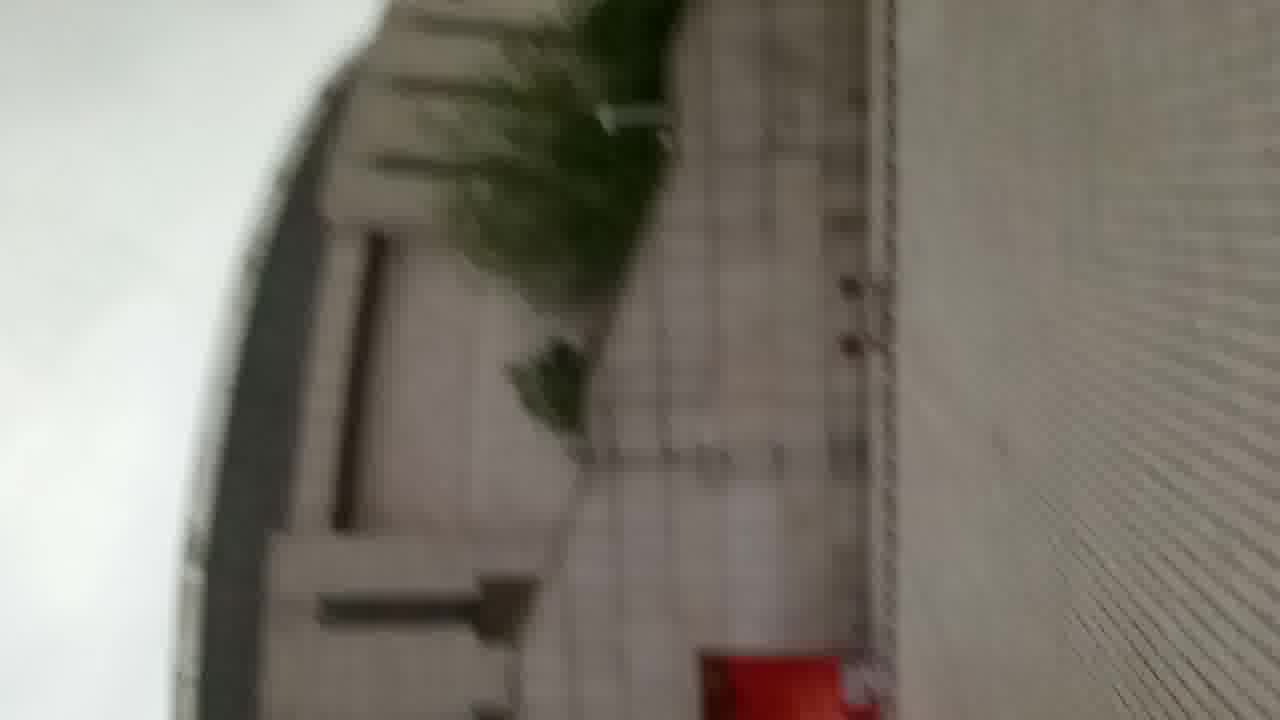zhongtiww: (147, 2, 879, 720)
